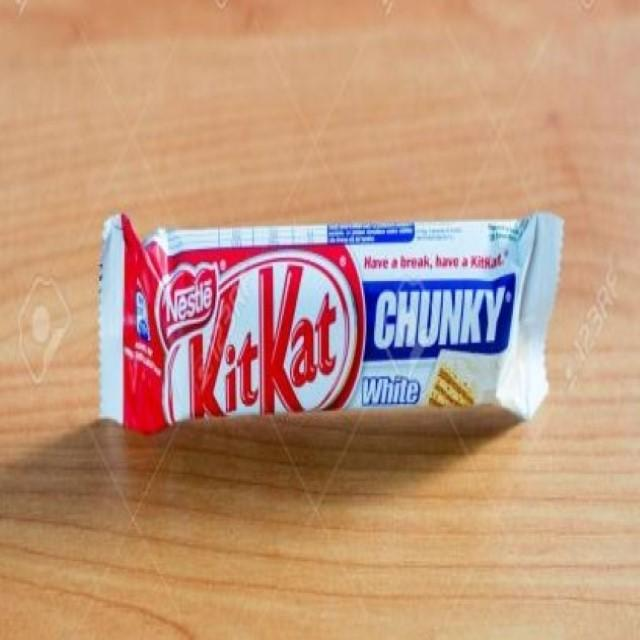kitkat_chocolate: (119, 233, 564, 430)
